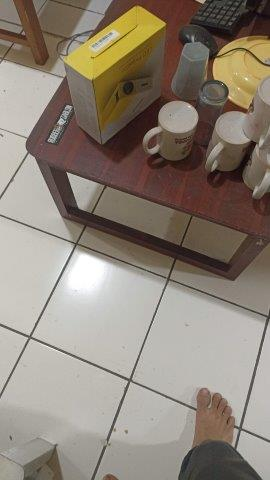kardus: (65, 6, 165, 143)
